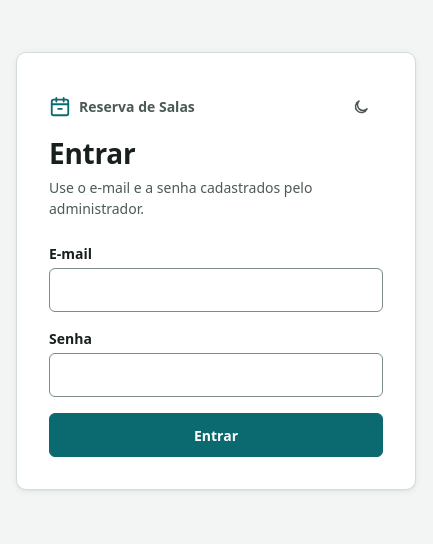
Scenario: login › mostra erro para credencial inválida
Type "a@b.com" into the field labelled "E-mail". click: (216, 290)
box: [49, 268, 383, 312]
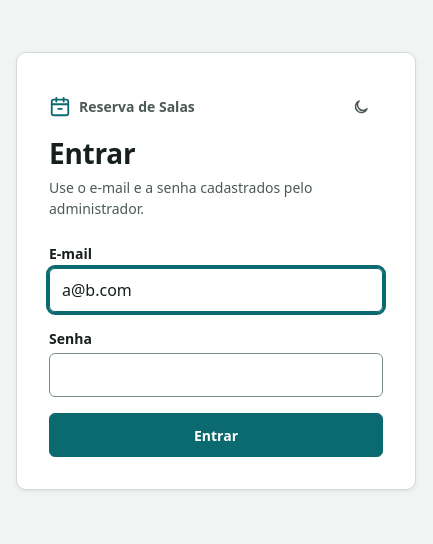
Type "errada123" into the password field labelled "Senha". click: (216, 375)
box: [49, 353, 383, 397]
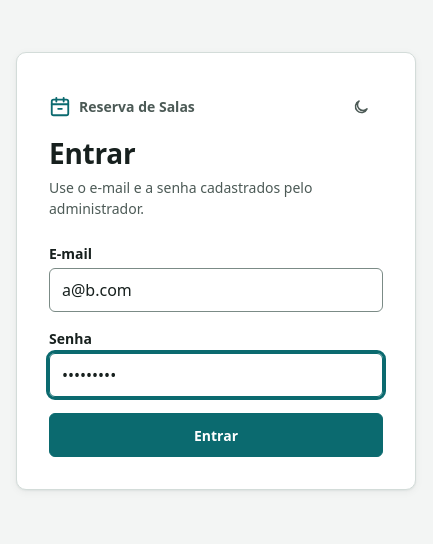
Click the button "Entrar". click: (216, 435)
box: [49, 413, 383, 457]
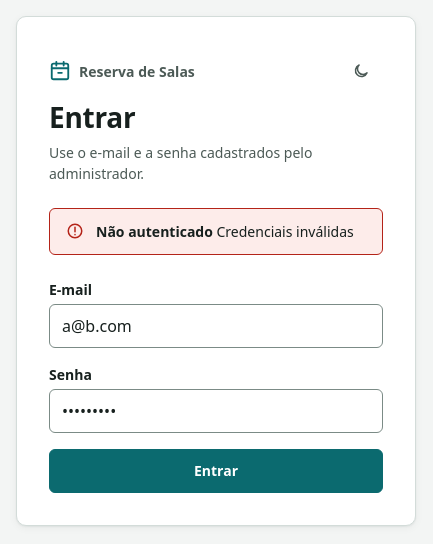
Expected: the message shows "Não autenticado", [96, 222, 213, 241]
Expected: the message shows "Credenciais inválidas", [216, 222, 354, 241]
